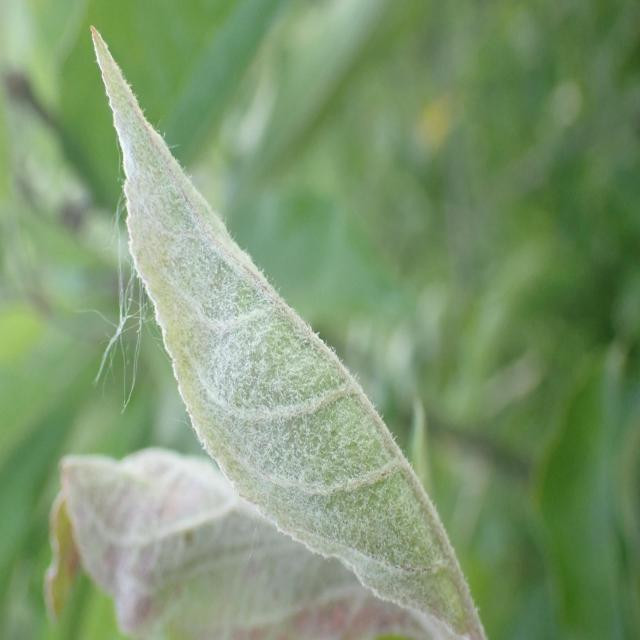Powdery_mildew: (69, 9, 476, 608), (32, 422, 463, 640)
